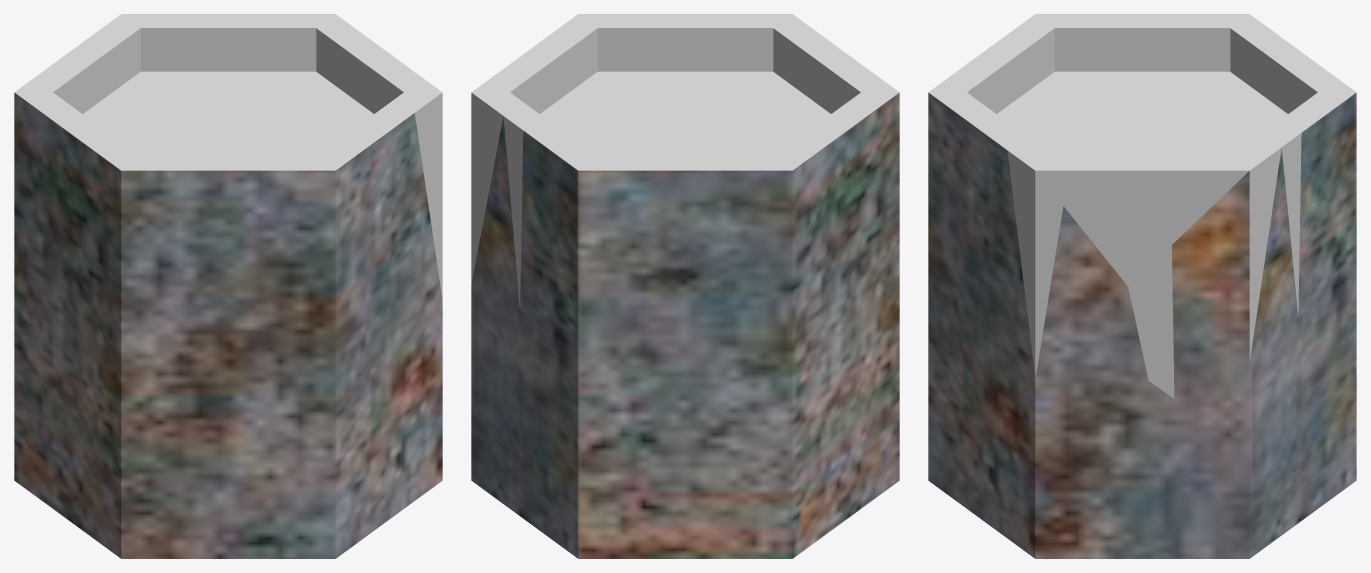
Rendered from Painting Can_FBX.fbx.
3 renders of one model, left to right at view 1: azimuth 30°, elevation 25°; view 2: azimuth 150°, elevation 25°; view 3: azimuth 270°, elevation 25°, orthographic.
Parts seen in each view (by area): view 1: Cylinder; view 2: Cylinder; view 3: Cylinder.
Part boxes in pixels (bbox=[...]): Cylinder: bbox=[14, 14, 442, 558]; Cylinder: bbox=[471, 14, 899, 558]; Cylinder: bbox=[928, 14, 1356, 558].
Bounding box in the file's own units: 17.32 × 20 × 20.
